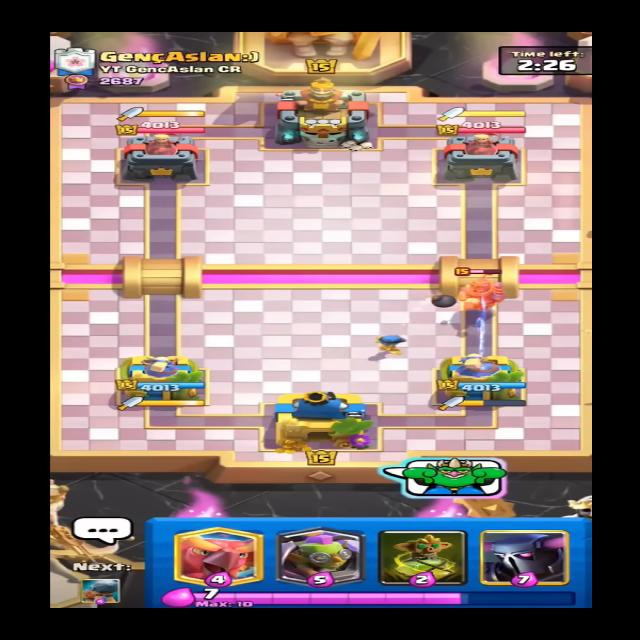Prince: (448, 266, 511, 326)
